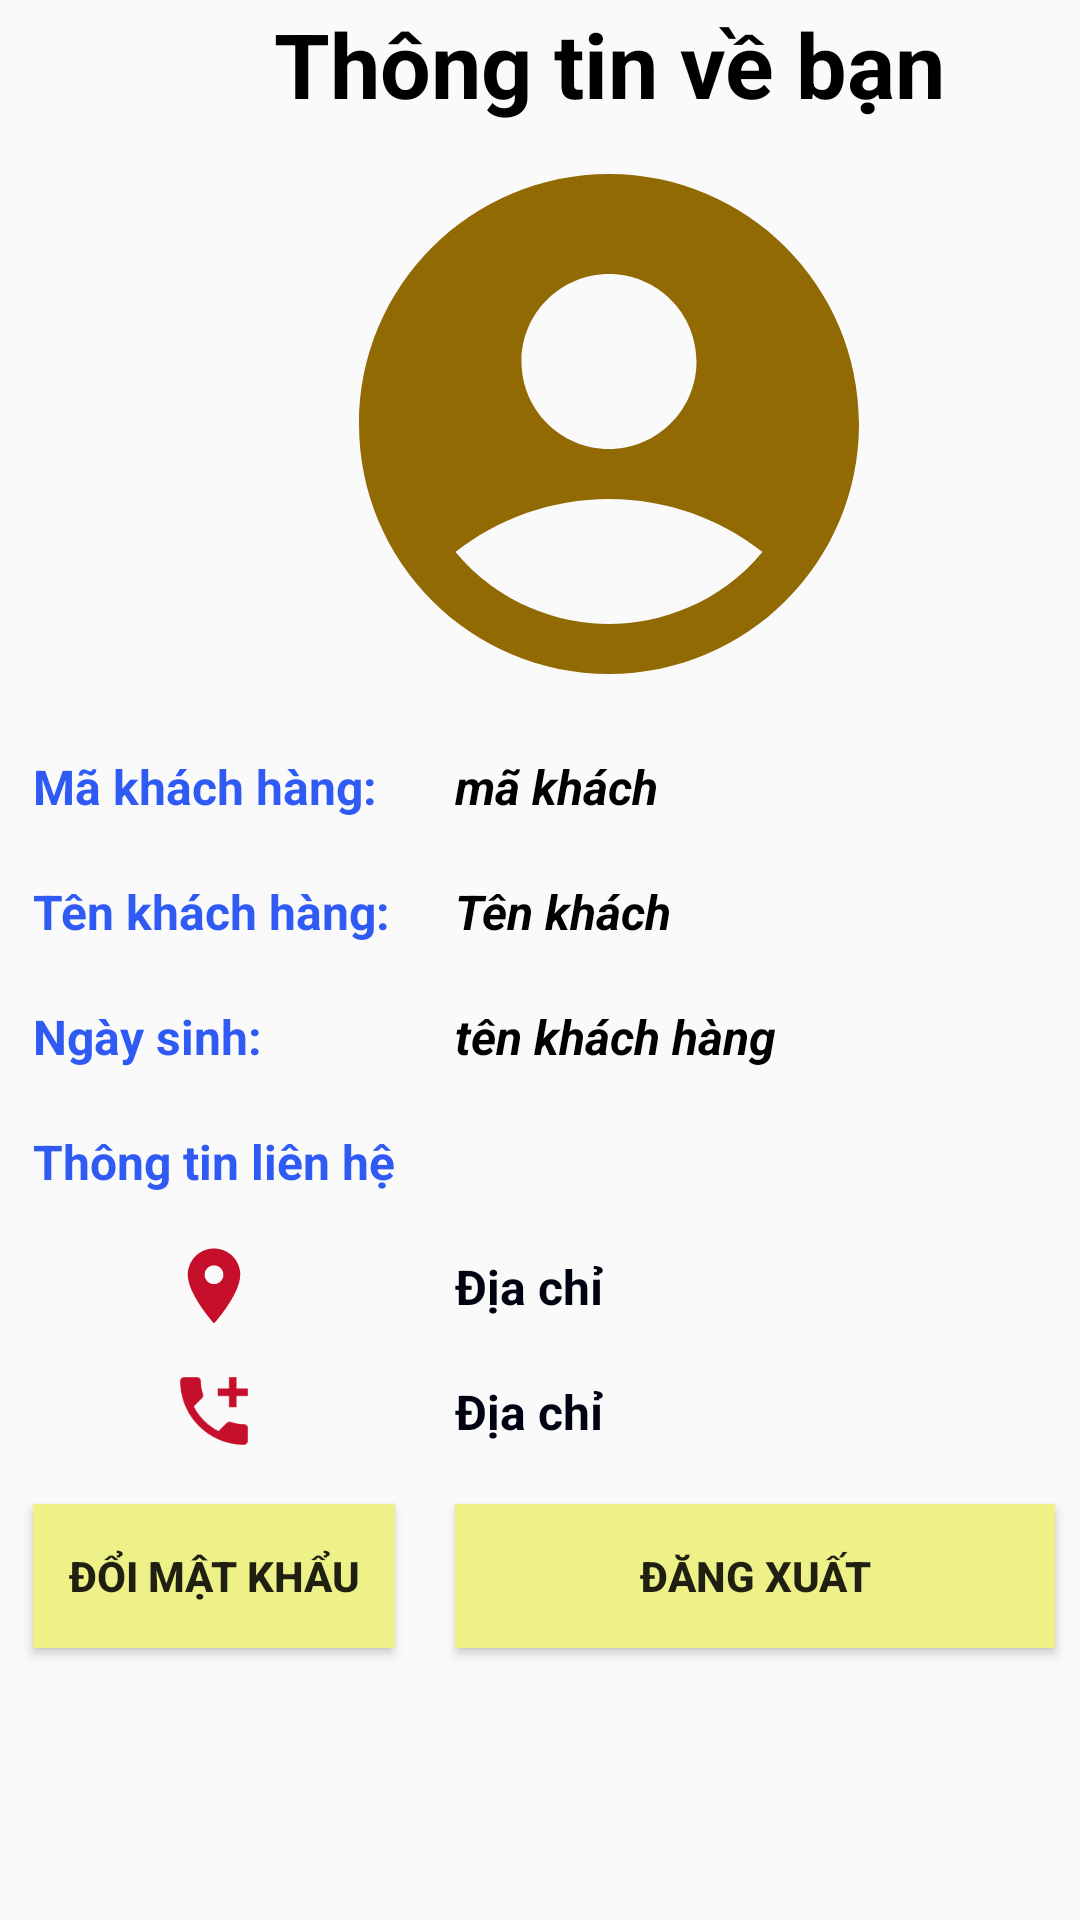

Point at icon controls on the screen. Image size 1080 x 1920, points as point (x, y).
add call: point (214, 1411)
location on: point (214, 1285)
